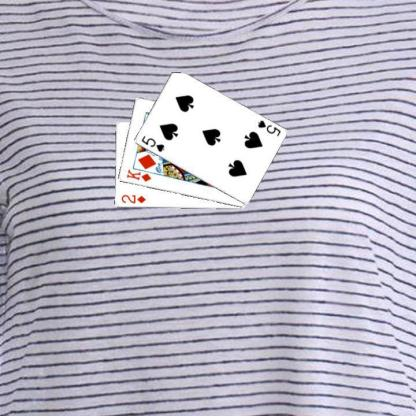2D: (118, 193, 147, 205)
5S: (255, 118, 282, 137), (139, 134, 165, 153)
KD: (124, 167, 152, 183)
